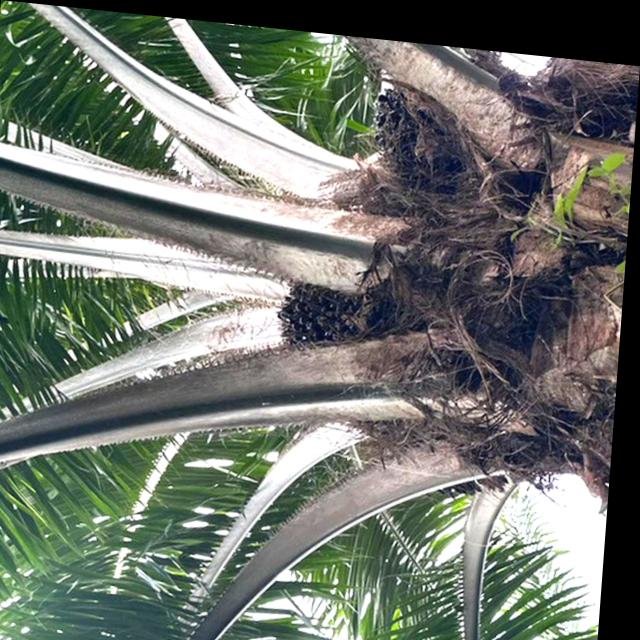unripe: (363, 66, 484, 202), (265, 251, 386, 361)
